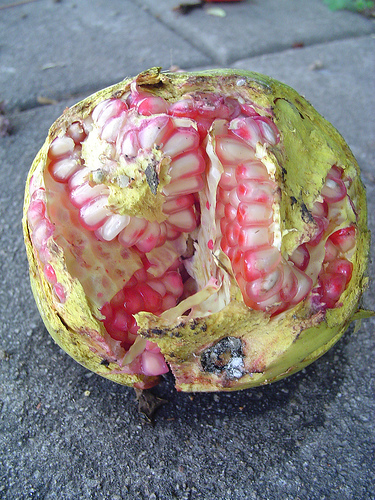pomogranate: (21, 66, 368, 392)
